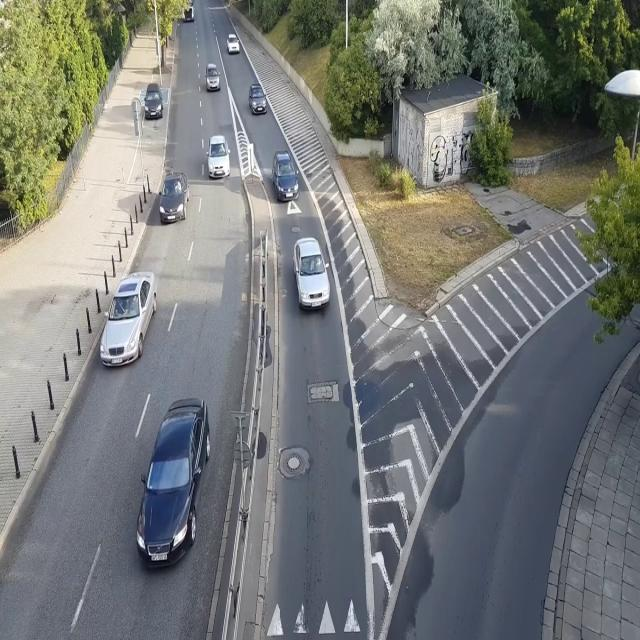car: (133, 396, 211, 573), (97, 269, 159, 369), (292, 238, 332, 312), (157, 172, 191, 224), (272, 150, 300, 202), (207, 132, 230, 178), (143, 81, 164, 122), (248, 82, 268, 114), (203, 62, 220, 92), (227, 33, 240, 55)
truck: (178, 0, 196, 22)
